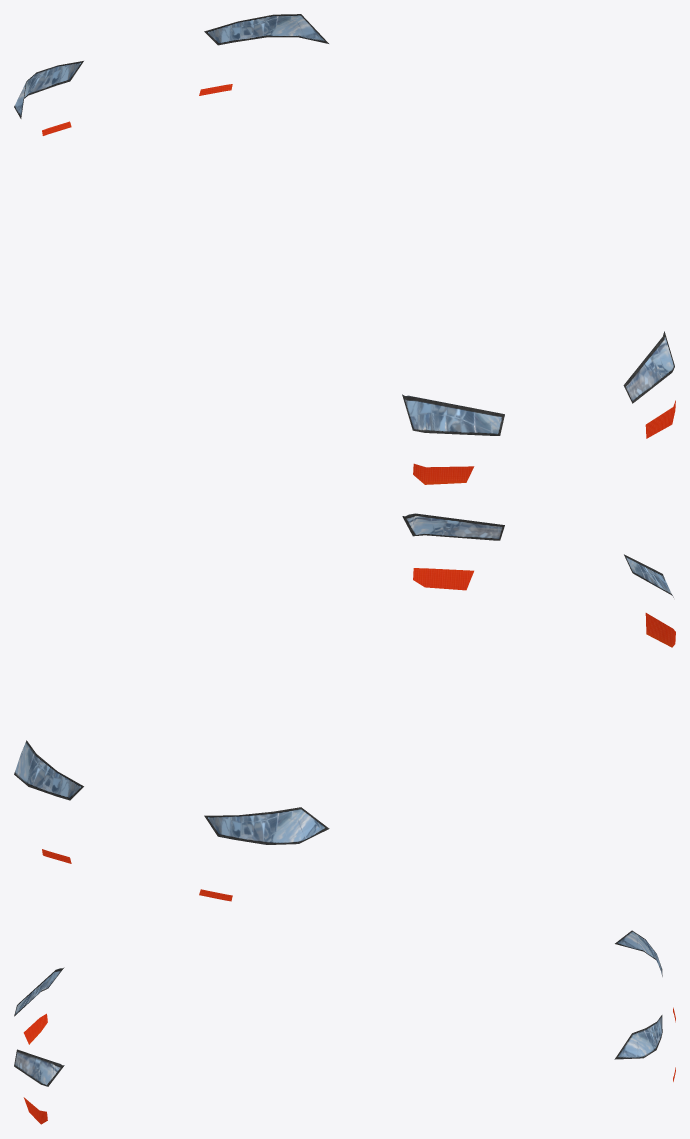
File: sedan_car_body_sedan_car_body_3_0.glb
The picture shows the model from 3 angles, top to bottom: view 1: azimuth 30°, elevation 25°; view 2: azimuth 150°, elevation 25°; view 3: azimuth 270°, elevation 25°; orthographic projection. The views are drawn at different scales.
Parts seen in each view (by area): view 1: sedan_car_body_sedan_car_body_3_0; view 2: sedan_car_body_sedan_car_body_3_0; view 3: sedan_car_body_sedan_car_body_3_0.
Part boxes in pixels (<box>): sedan_car_body_sedan_car_body_3_0: <box>14,14,675,484</box>; sedan_car_body_sedan_car_body_3_0: <box>14,513,675,901</box>; sedan_car_body_sedan_car_body_3_0: <box>14,930,675,1124</box>.
Bounding box in the file's own units: 2.01 × 0.7864 × 4.87.
1 material, 1 textured.
